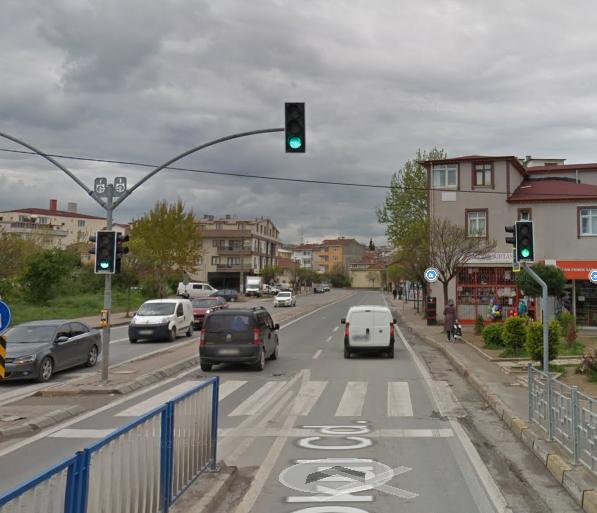greenlight: (284, 101, 306, 153), (96, 230, 115, 270), (516, 222, 533, 260)
